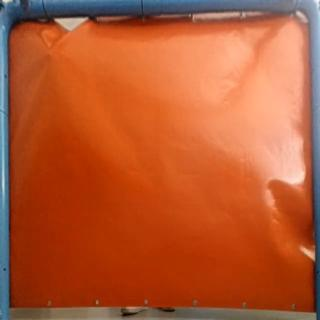Hit-hRxx: (42, 48, 57, 61)
